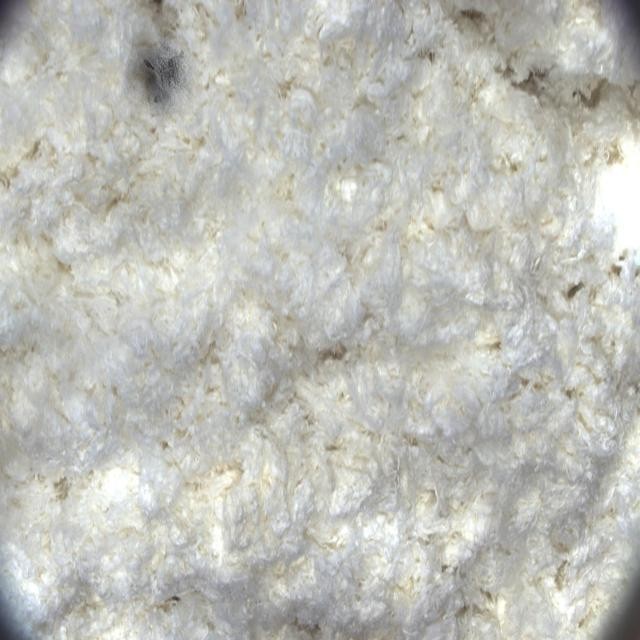dust: (86, 3, 215, 131)
